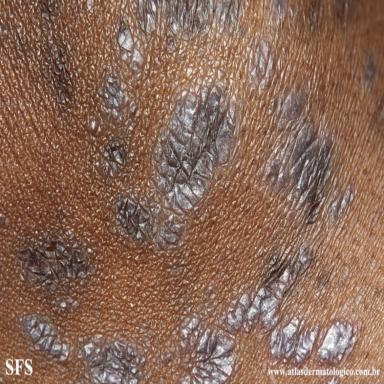lichen: (179, 243, 356, 383), (115, 83, 235, 248), (261, 85, 332, 223), (137, 0, 248, 54), (17, 228, 95, 290), (36, 0, 73, 106), (79, 336, 145, 383), (23, 314, 72, 361), (101, 77, 137, 124), (118, 23, 145, 76), (249, 39, 276, 90), (99, 140, 126, 176), (329, 185, 354, 223), (13, 26, 33, 64), (336, 0, 359, 28), (361, 53, 377, 86), (308, 0, 325, 30), (51, 296, 79, 314), (270, 0, 288, 26), (88, 117, 101, 136), (161, 351, 173, 365)
